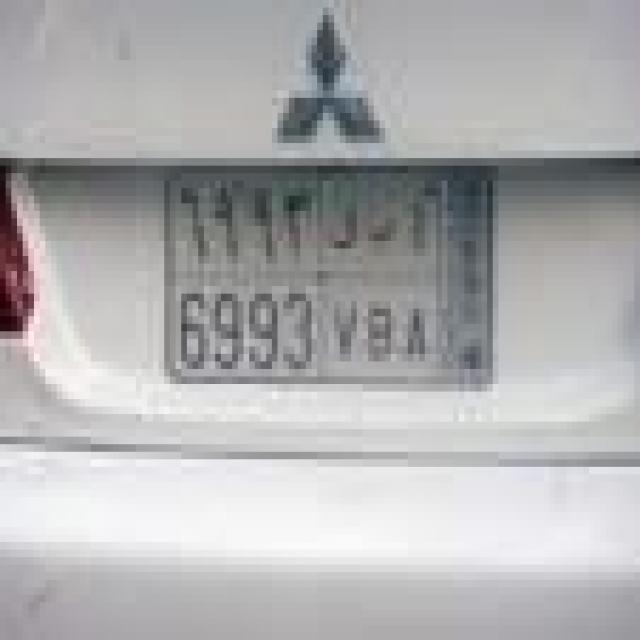license_plate: (113, 136, 510, 437)
